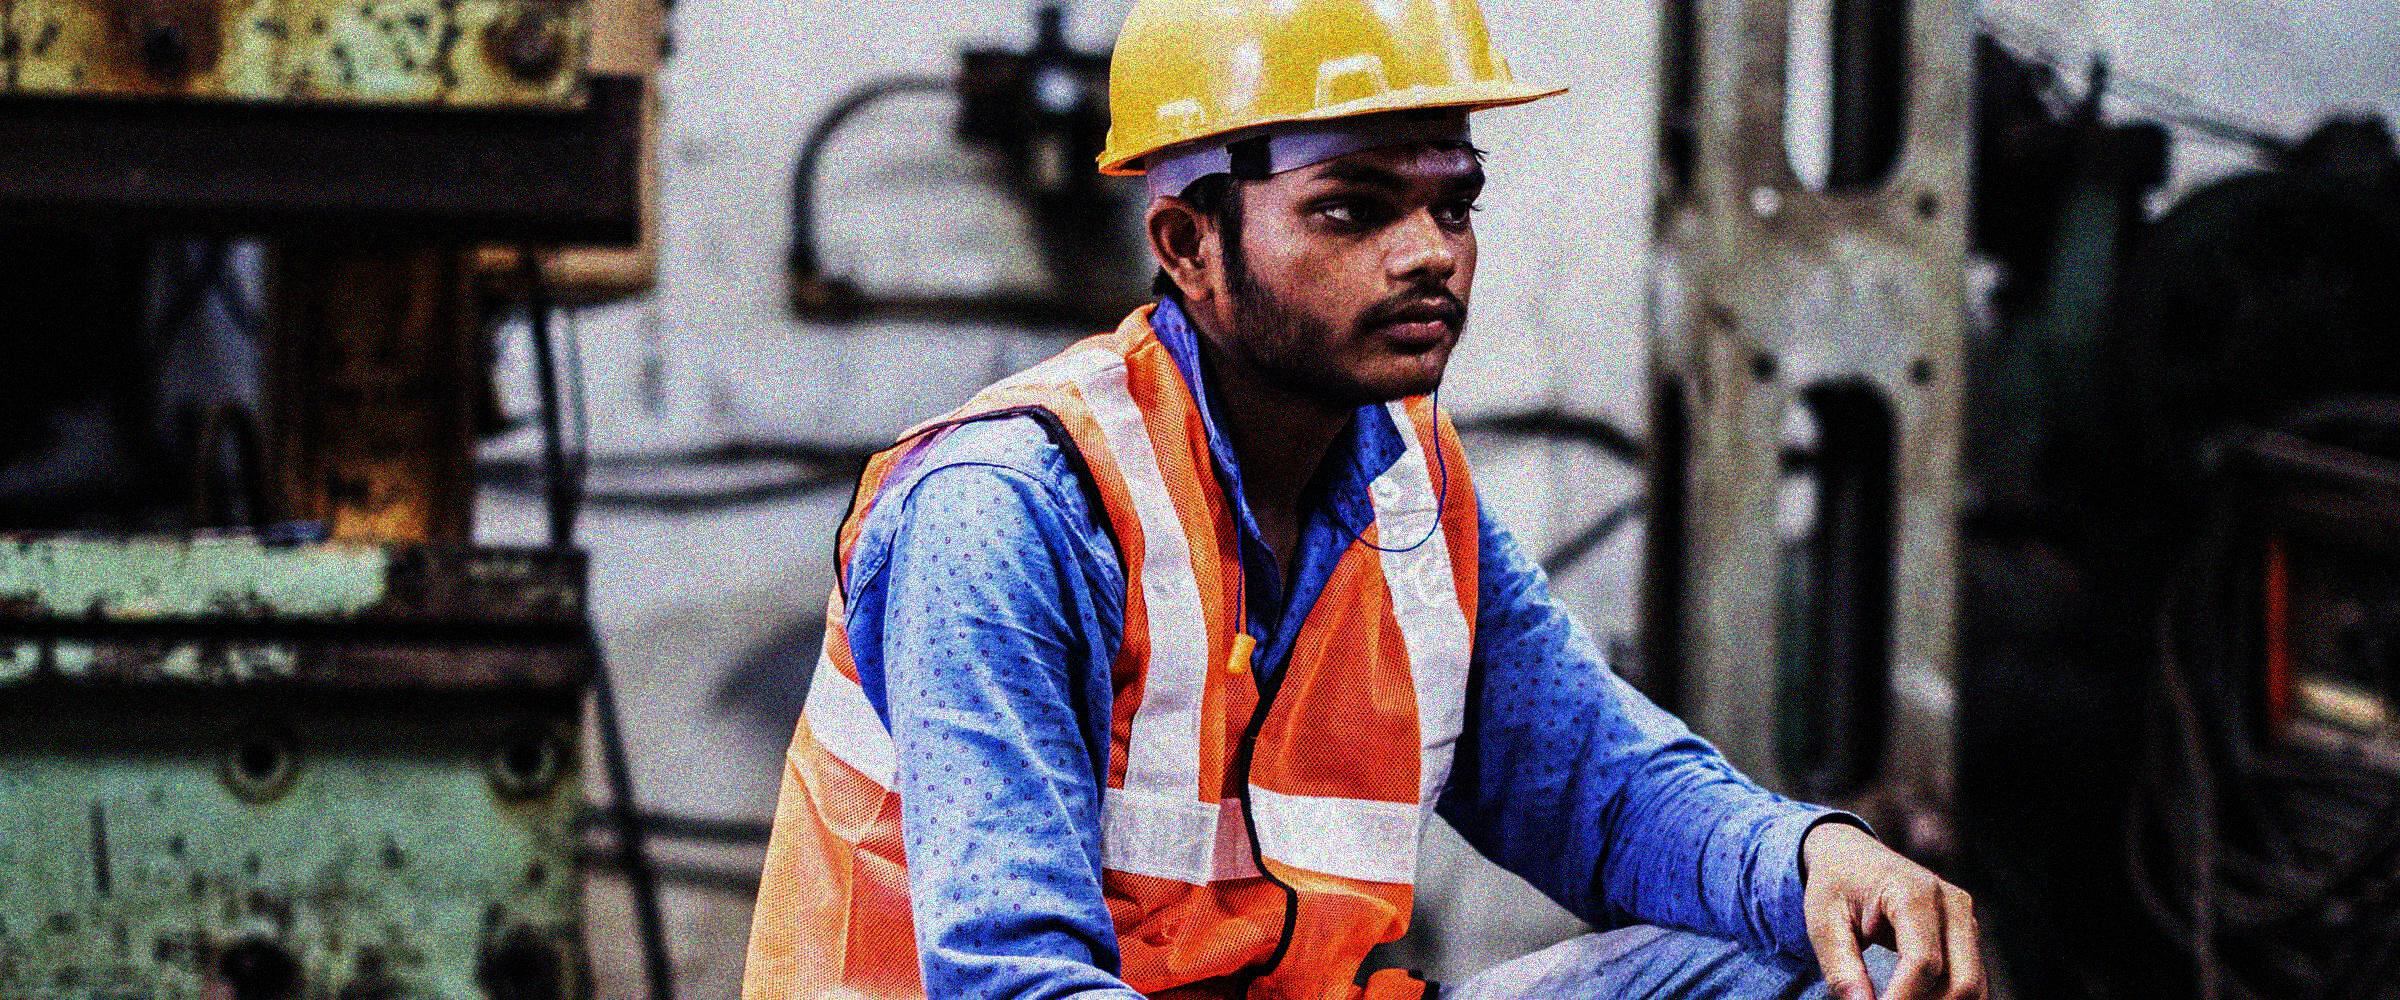helmet: (1088, 2, 1567, 406)
